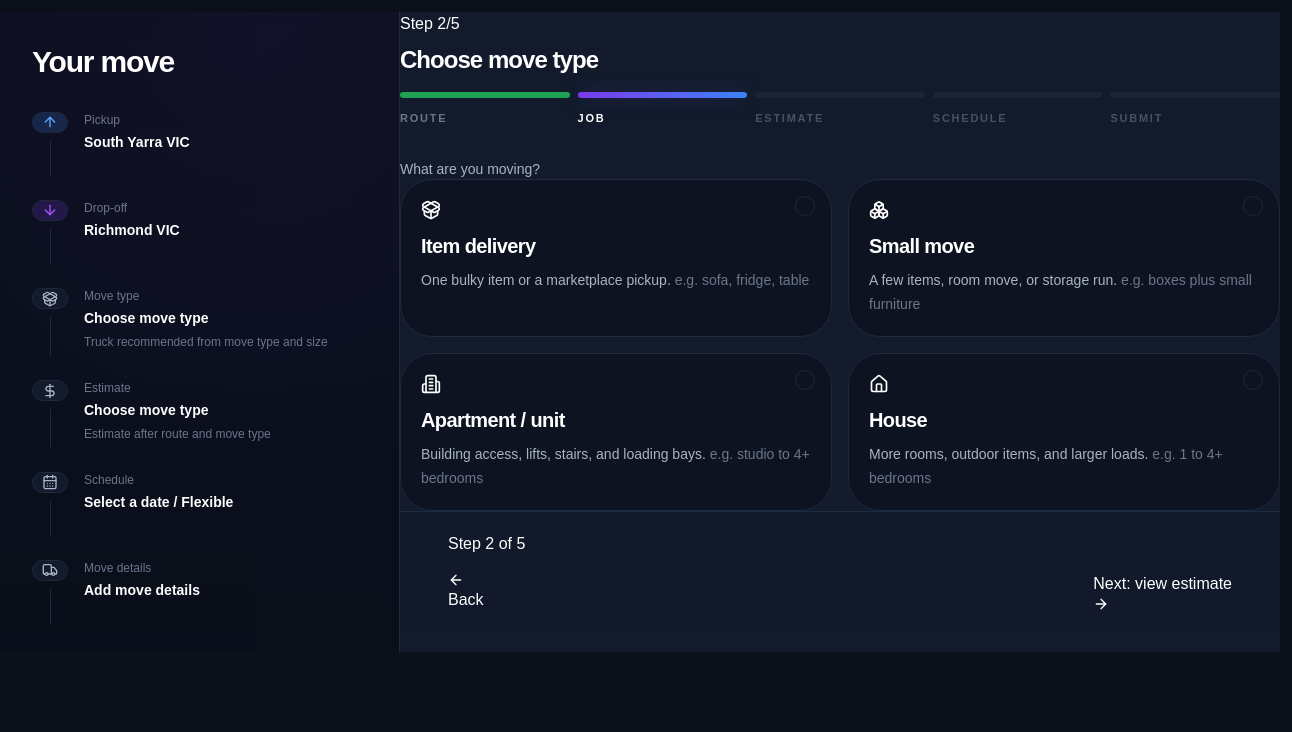
QuoteForm › shows 4+ bedroom move sizes as coming soon
The image size is (1292, 732).
Click the radio button labelled "House" at (898, 420), box 848,352 -> 1280,510
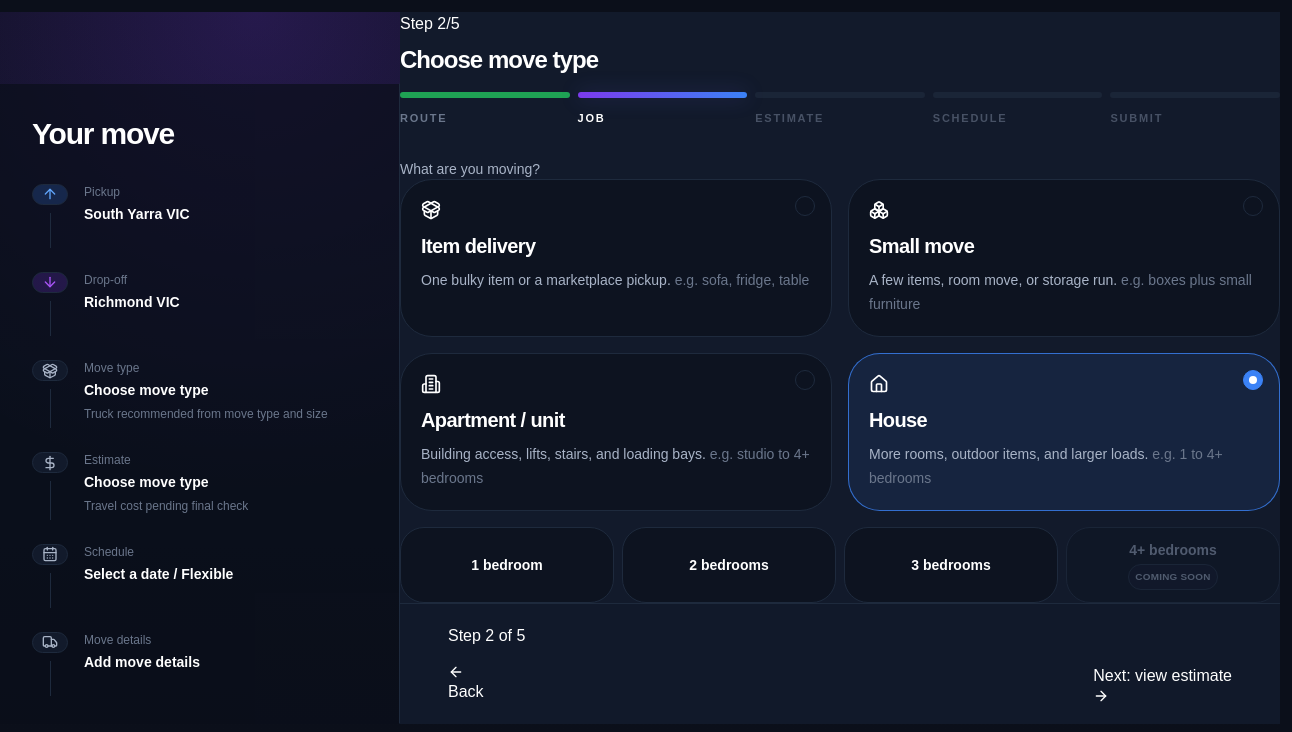
Expected: the radio button labelled "4+ bedrooms Coming soon" is disabled, 1066,526 -> 1280,602
Expected: the text "Coming soon" is shown, 1128,564 -> 1218,590
